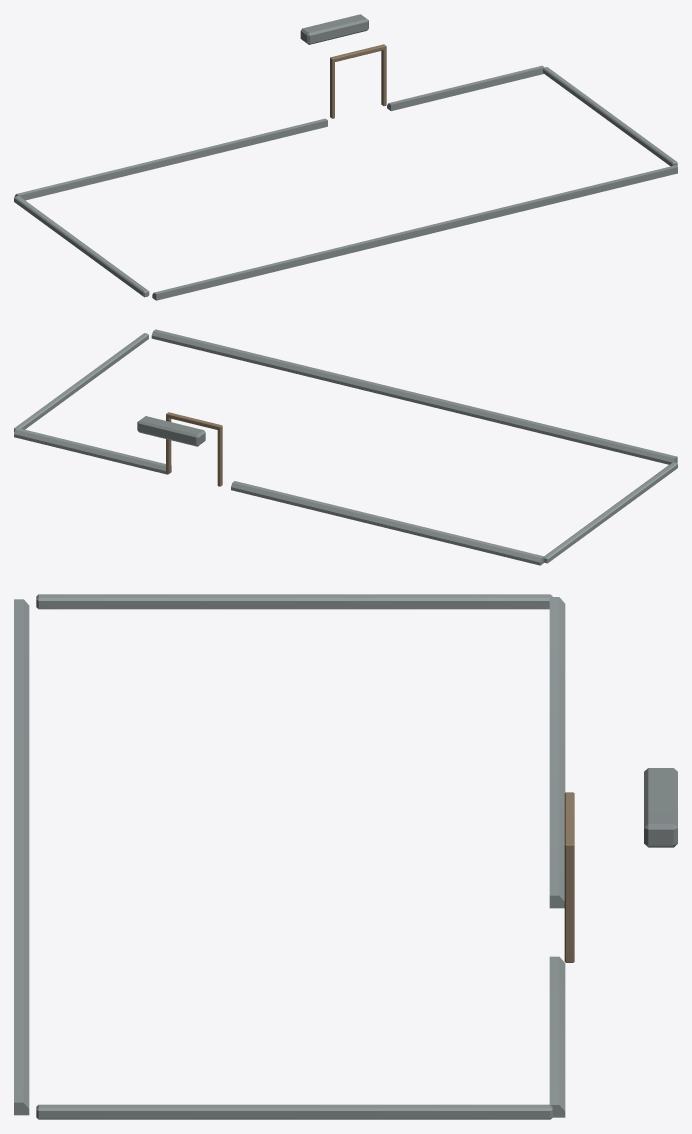
The model's file is retreat_r3_finish_a4_runtime.glb.
3 views of the same model, one above another, from view 1: azimuth 30°, elevation 25°; view 2: azimuth 150°, elevation 25°; view 3: azimuth 270°, elevation 25° (orthographic). The views are drawn at different scales.
Parts seen in each view (by area): view 1: Finish_A4_Excavation_Foot_Seal_2, Finish_A4_Excavation_Foot_Seal_0, Finish_A4_Excavation_Foot_Seal_1, Finish_A4_West_Cove, Finish_A4_East_Cove, Finish_A4_Rock_Portal_Crown; view 2: Finish_A4_Excavation_Foot_Seal_2, Finish_A4_Excavation_Foot_Seal_0, Finish_A4_Excavation_Foot_Seal_1, Finish_A4_West_Cove, Finish_A4_East_Cove, Finish_A4_Rock_Portal_Crown; view 3: Finish_A4_East_Cove, Finish_A4_Excavation_Foot_Seal_2, Finish_A4_West_Cove, Finish_A4_Excavation_Foot_Seal_0, Finish_A4_Excavation_Foot_Seal_1, Finish_A4_Rock_Portal_Crown, Finish_A4_Fixed_Oak_Reveal_R.
Boxes of the visible parts, left/top/right/bottom form: Finish_A4_Excavation_Foot_Seal_2: left=152, top=165, right=677, bottom=300; Finish_A4_Excavation_Foot_Seal_0: left=14, top=118, right=327, bottom=200; Finish_A4_Excavation_Foot_Seal_1: left=387, top=65, right=544, bottom=111; Finish_A4_West_Cove: left=14, top=196, right=149, bottom=297; Finish_A4_East_Cove: left=543, top=67, right=677, bottom=166; Finish_A4_Rock_Portal_Crown: left=300, top=14, right=368, bottom=44; Finish_A4_Excavation_Foot_Seal_2: left=151, top=329, right=677, bottom=464; Finish_A4_Excavation_Foot_Seal_0: left=231, top=481, right=544, bottom=565; Finish_A4_Excavation_Foot_Seal_1: left=14, top=428, right=171, bottom=474; Finish_A4_West_Cove: left=543, top=462, right=677, bottom=563; Finish_A4_East_Cove: left=14, top=333, right=148, bottom=432; Finish_A4_Rock_Portal_Crown: left=137, top=416, right=205, bottom=446; Finish_A4_East_Cove: left=36, top=1104, right=552, bottom=1119; Finish_A4_Excavation_Foot_Seal_2: left=14, top=599, right=29, bottom=1115; Finish_A4_West_Cove: left=36, top=594, right=552, bottom=609; Finish_A4_Excavation_Foot_Seal_0: left=549, top=597, right=565, bottom=908; Finish_A4_Excavation_Foot_Seal_1: left=549, top=956, right=565, bottom=1117; Finish_A4_Rock_Portal_Crown: left=644, top=768, right=677, bottom=847; Finish_A4_Fixed_Oak_Reveal_R: left=564, top=848, right=574, bottom=962.
Size of the model in its own units: 24.44 by 3.23 by 13.3.
